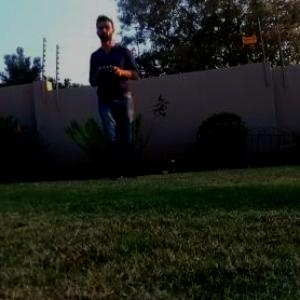follow: (84, 11, 149, 183)
